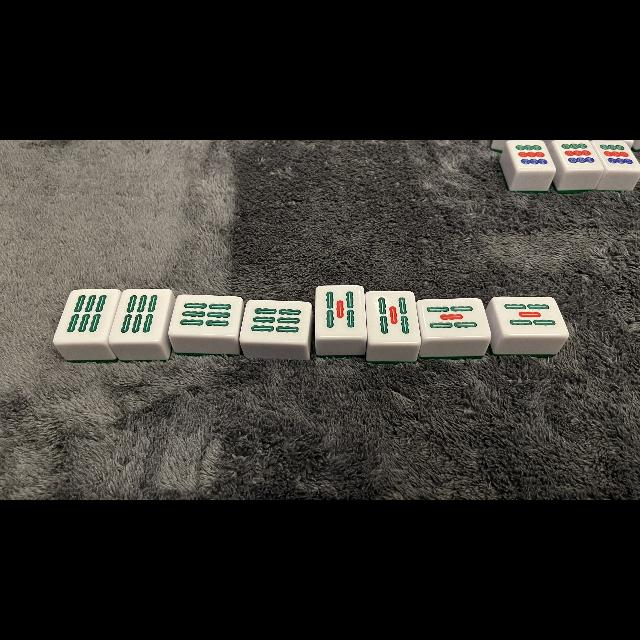b5: (420, 298, 486, 338), (368, 292, 418, 342), (498, 296, 562, 334), (317, 286, 363, 334)
b6: (174, 294, 238, 336), (244, 300, 308, 342), (63, 290, 111, 338), (116, 291, 164, 339)
d9: (558, 140, 596, 170), (512, 141, 552, 169), (598, 140, 634, 166)
